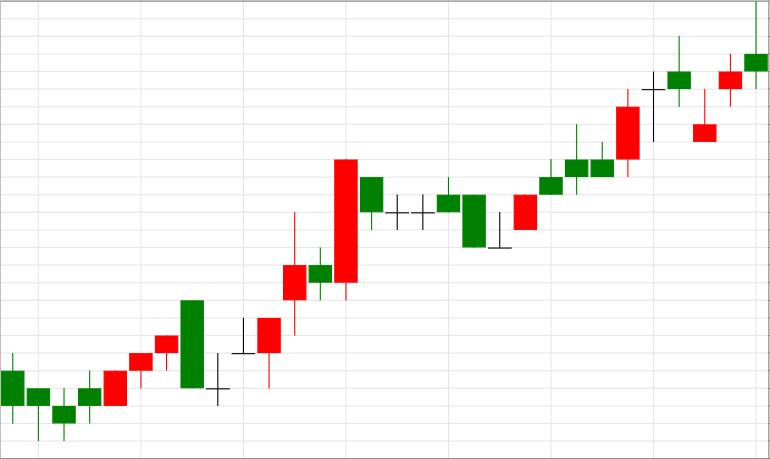bearish_engulfing_fall: (104, 300, 204, 406)
morning_star_rise: (360, 176, 537, 250)
